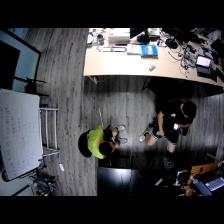normal: (147, 96, 196, 152), (81, 118, 140, 158)
